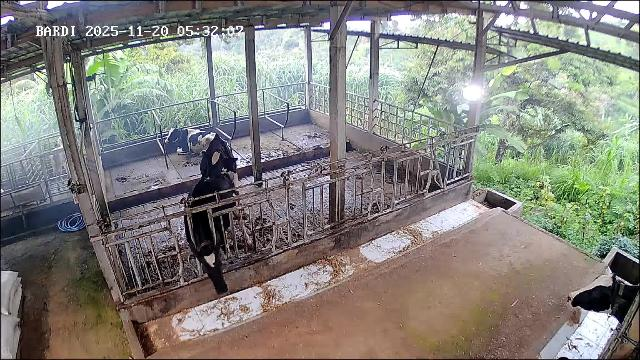mounting: (199, 134, 240, 206)
